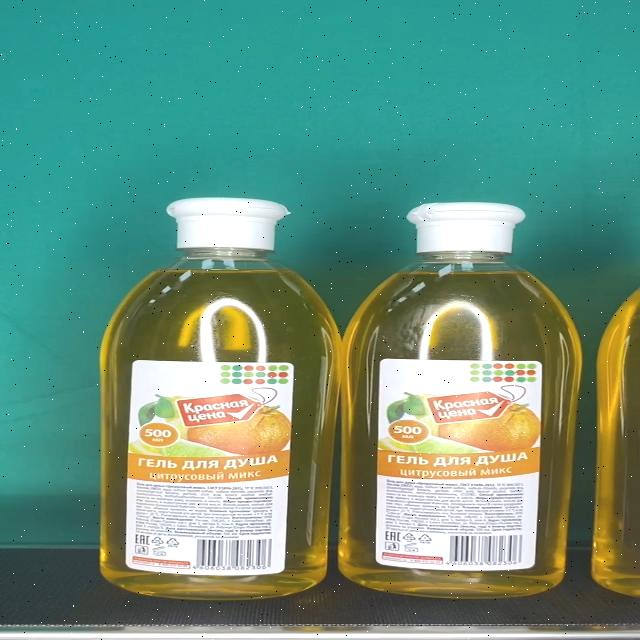Bottle: (99, 198, 343, 600), (340, 203, 584, 598)
Cap: (405, 202, 526, 253), (167, 198, 289, 248)
